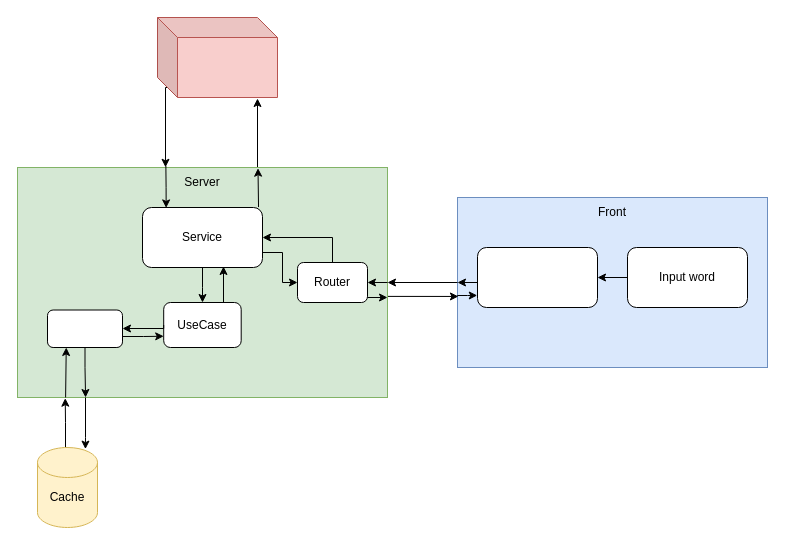
Some shapes in this 785 by 545 pixel diagram are drawn without their labels. Here are the shapes that lost their labels. From the top down, the centre of each, then its label:
At point (217, 57): "API".
At point (537, 277): "Provider".
At point (84, 328): "Infra".
